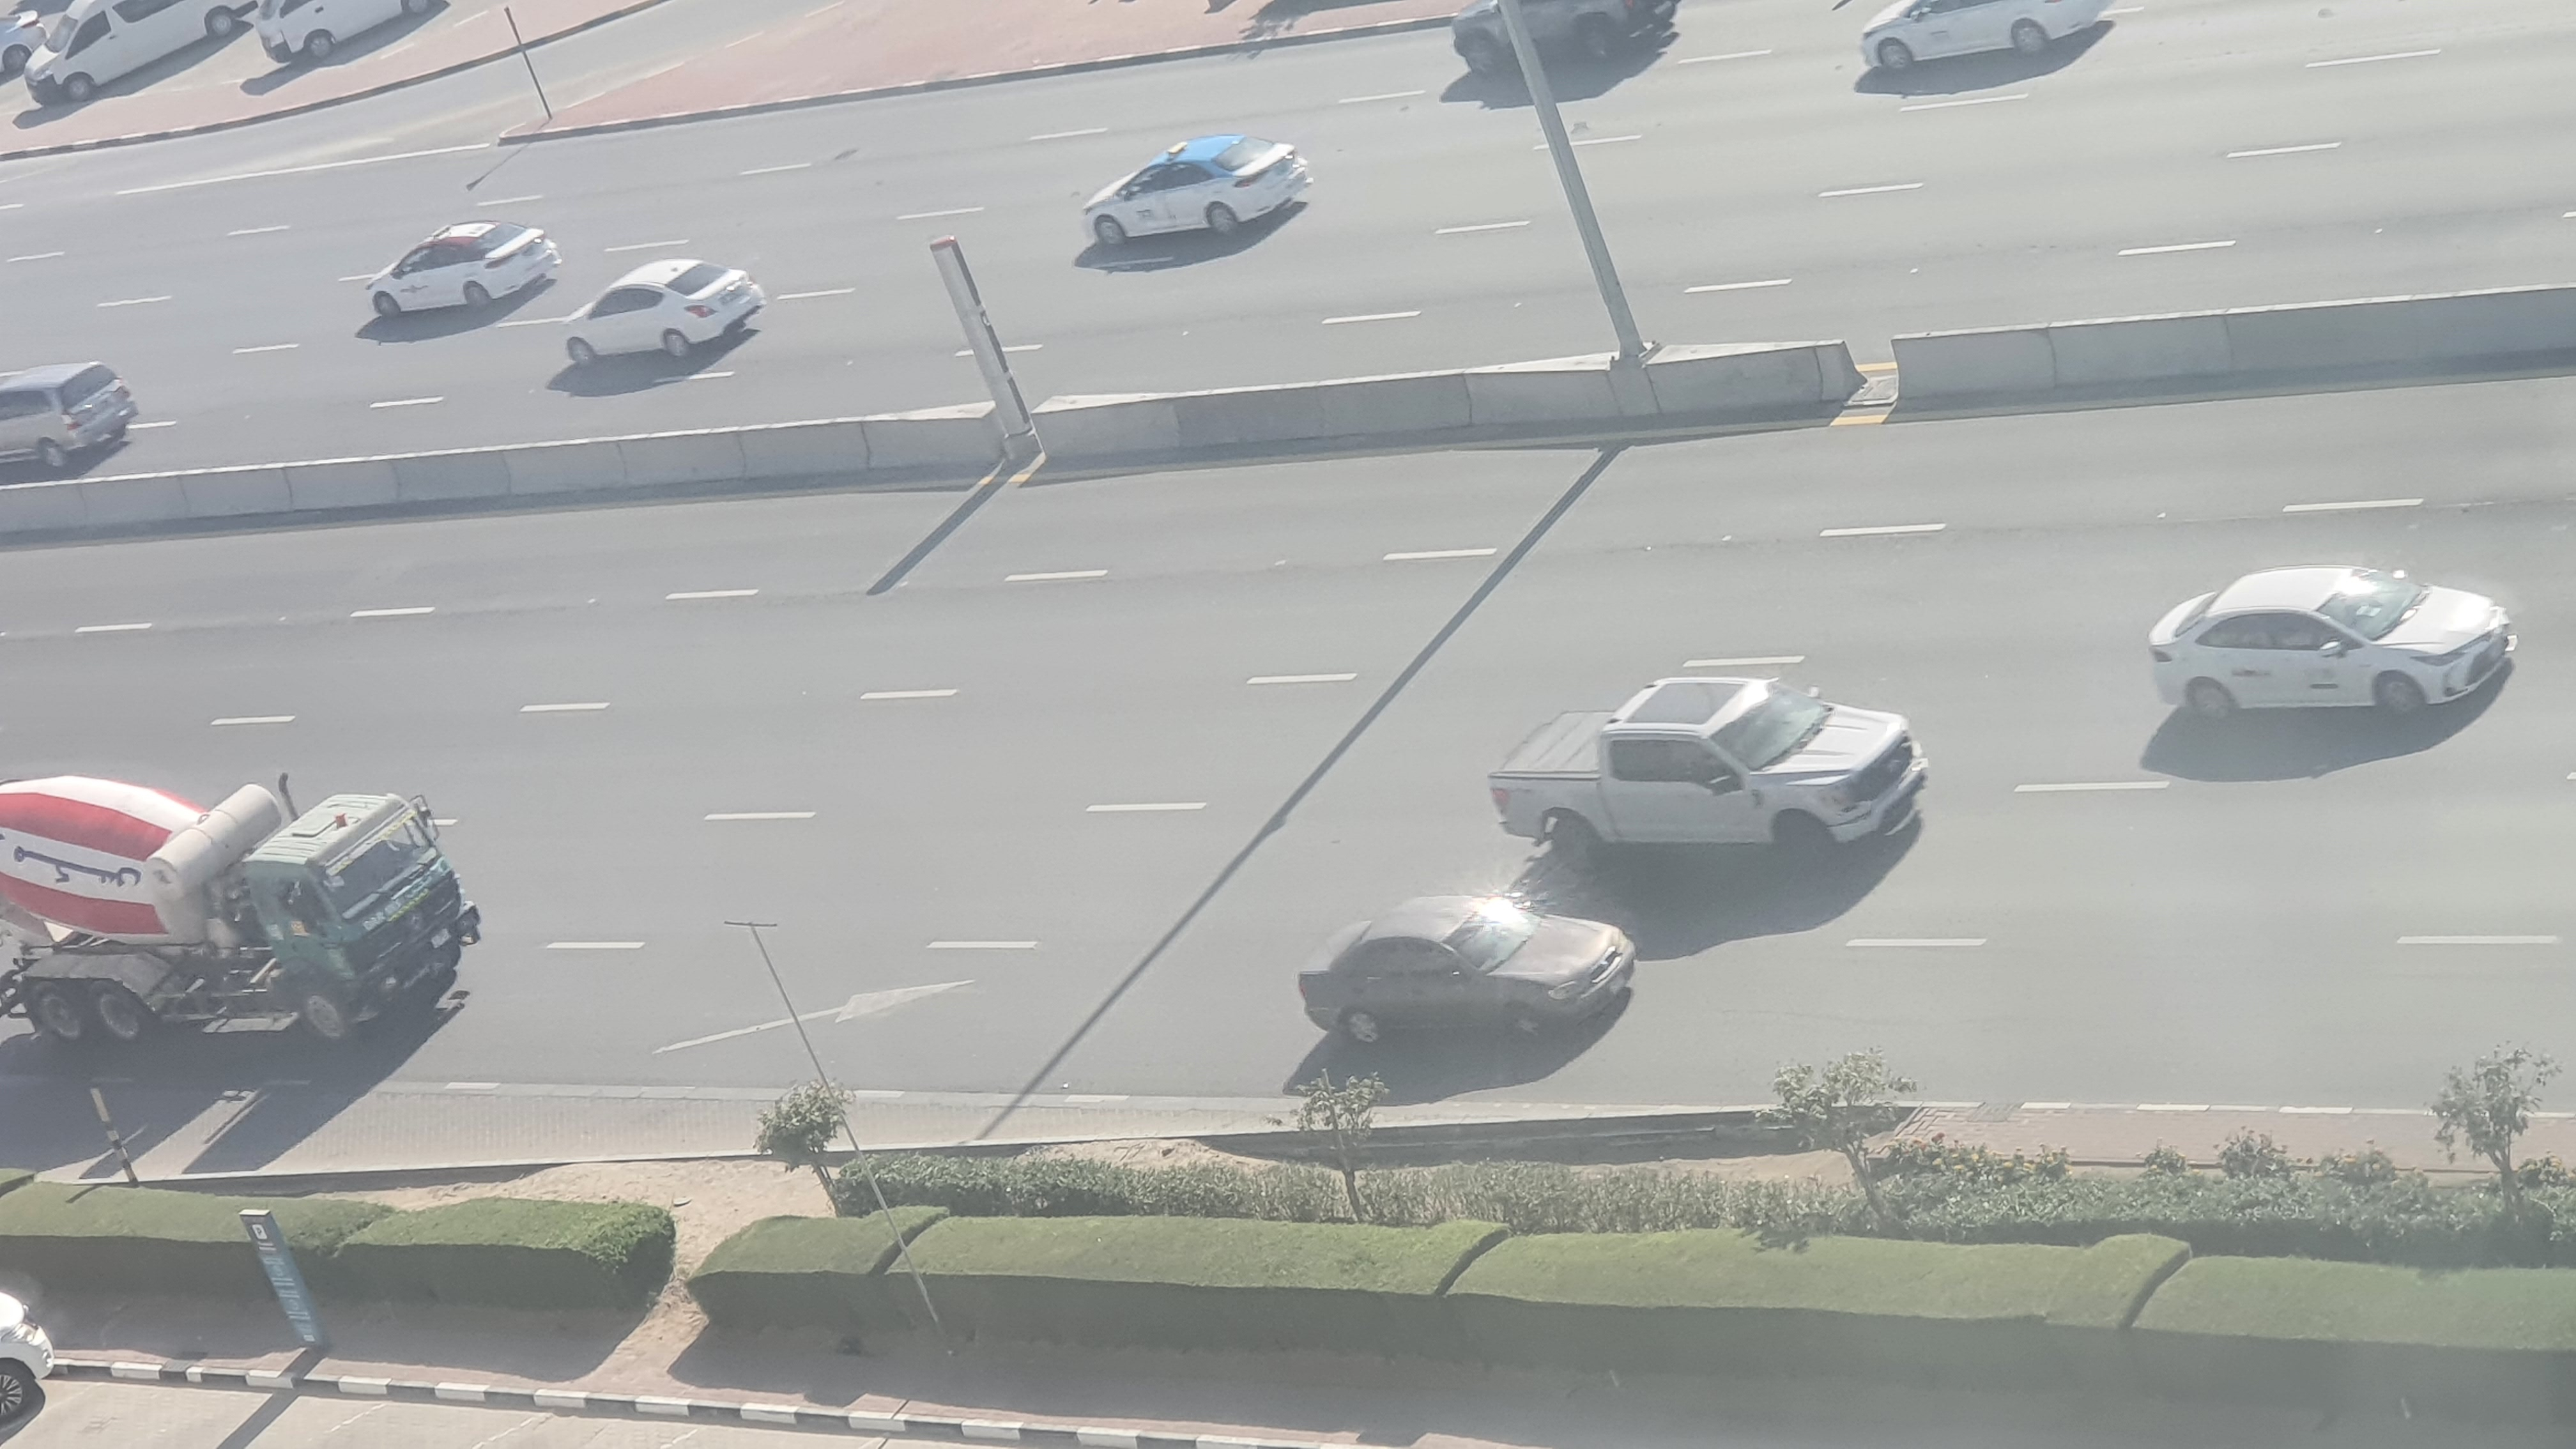NotSunroof: (2143, 559, 2526, 731), (1284, 893, 1642, 1051)
Sunroof: (1479, 679, 1934, 876)
